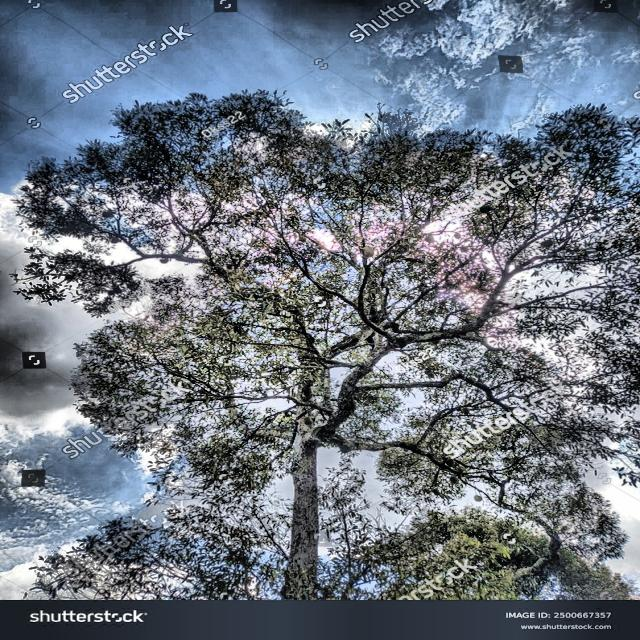arvore: (278, 308, 346, 598)
